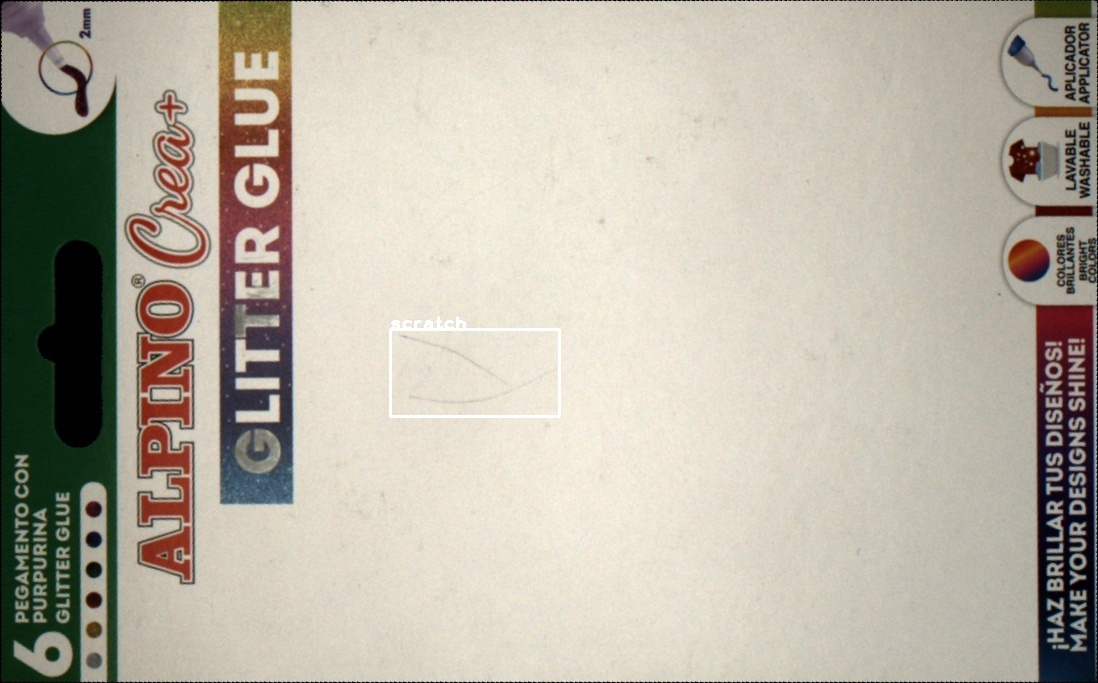scratch: (390, 329, 559, 416)
